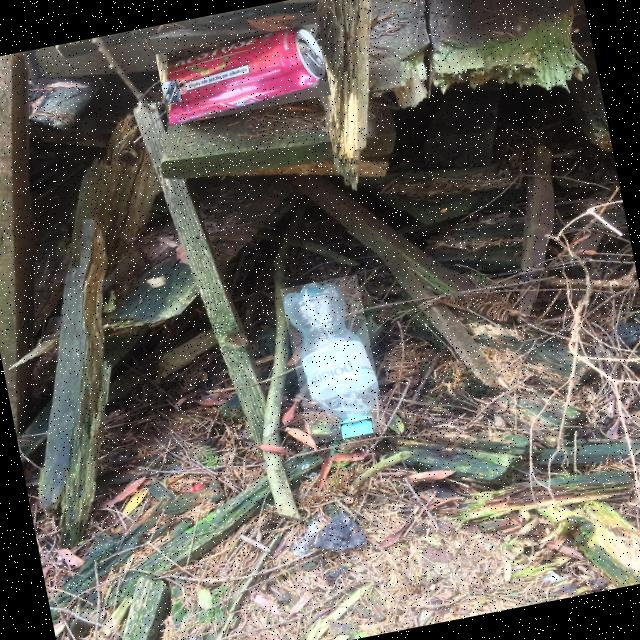Clear plastic bottle: (284, 283, 379, 437)
Drink can: (168, 29, 326, 126)
Plastic bottle cap: (343, 420, 374, 436)
Pop tab: (166, 80, 178, 104)
